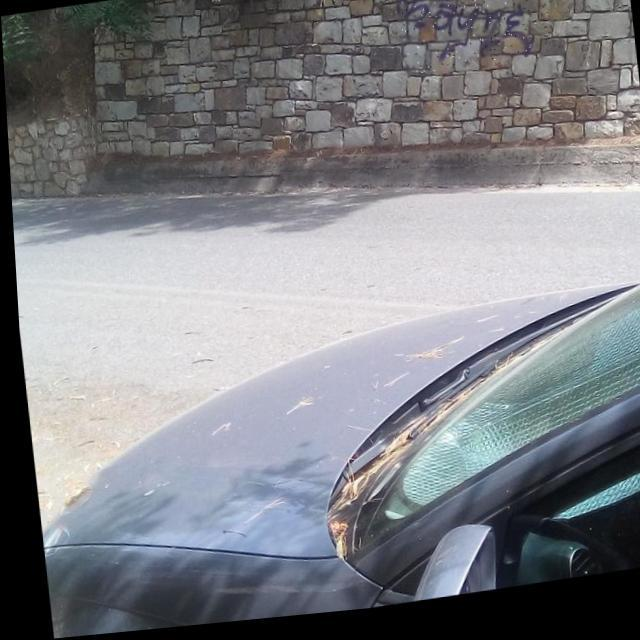-: (394, 0, 535, 84)
